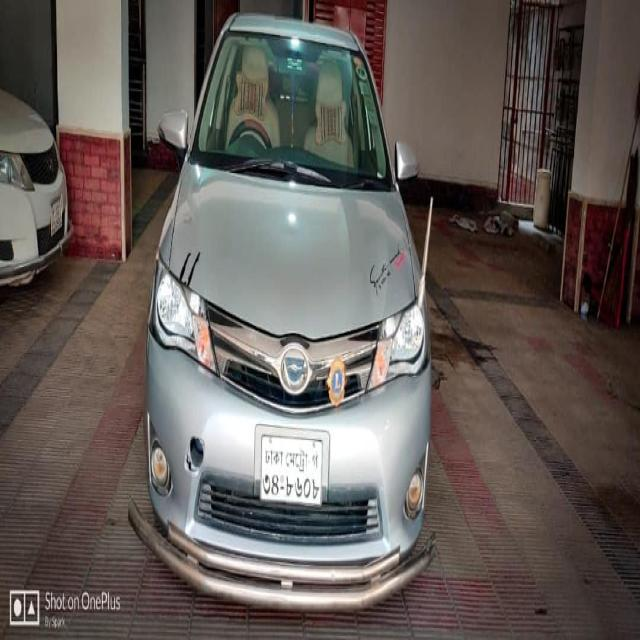numberplate: (255, 429, 328, 506)
